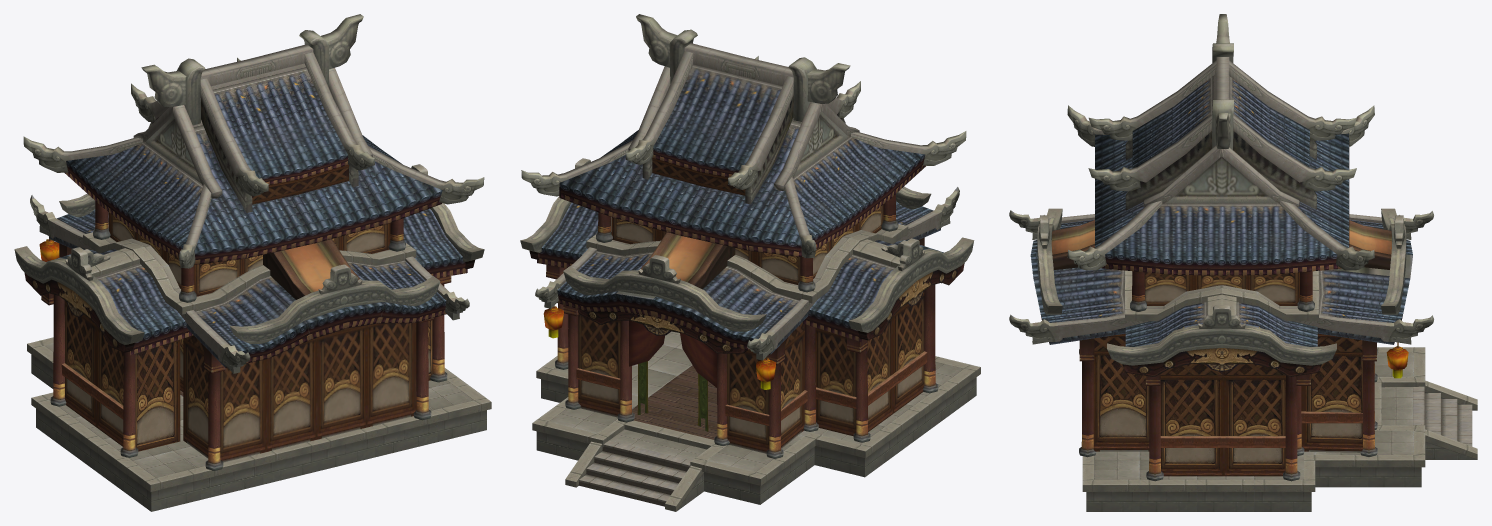
The model's file is cj_luoyang_minju01_56_09_3774out.fbx.
3 views of the same model, side by side, from view 1: azimuth 30°, elevation 25°; view 2: azimuth 150°, elevation 25°; view 3: azimuth 270°, elevation 25° (orthographic). The views are drawn at different scales.
Visible parts, largest first — view 1: cj_luoyang_minju01; view 2: cj_luoyang_minju01; view 3: cj_luoyang_minju01.
Part boxes in pixels (left/top/right/bottom): cj_luoyang_minju01: left=14, top=14, right=491, bottom=511; cj_luoyang_minju01: left=520, top=14, right=980, bottom=511; cj_luoyang_minju01: left=1009, top=14, right=1477, bottom=511.
Bounding box in the file's own units: 9.08 × 9.29 × 10.71.
